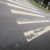zebra: (6, 1, 49, 42)
